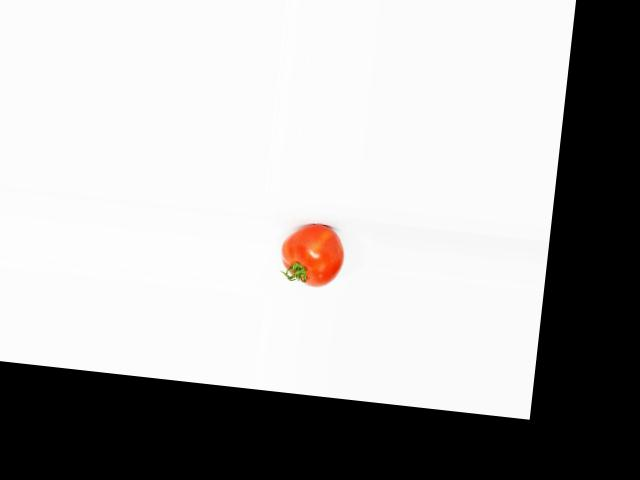tomato: (278, 220, 347, 290)
